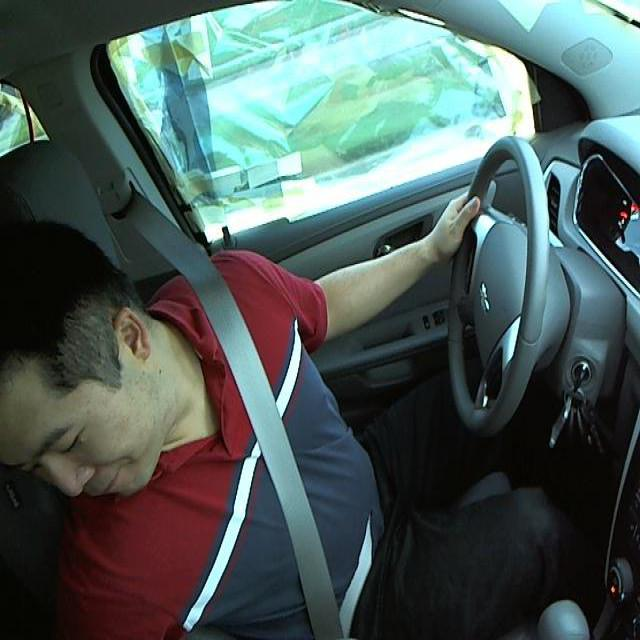seatbelt: (171, 280, 370, 639)
